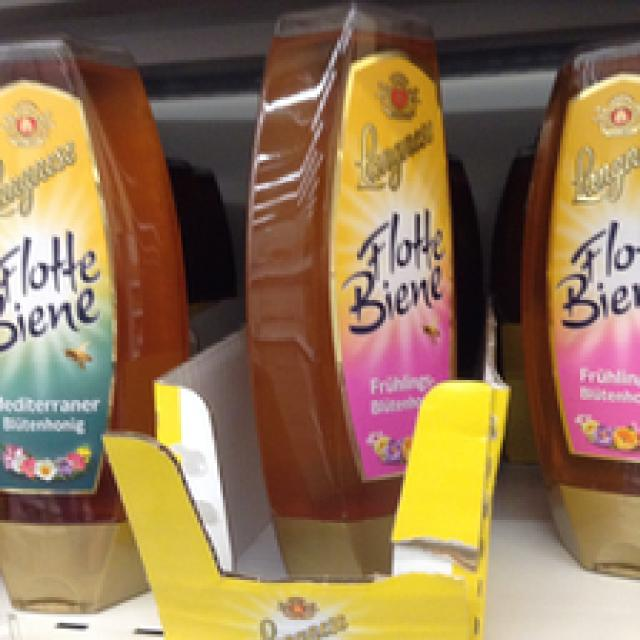groceries: (248, 3, 468, 583), (0, 34, 189, 612), (526, 37, 637, 597)
